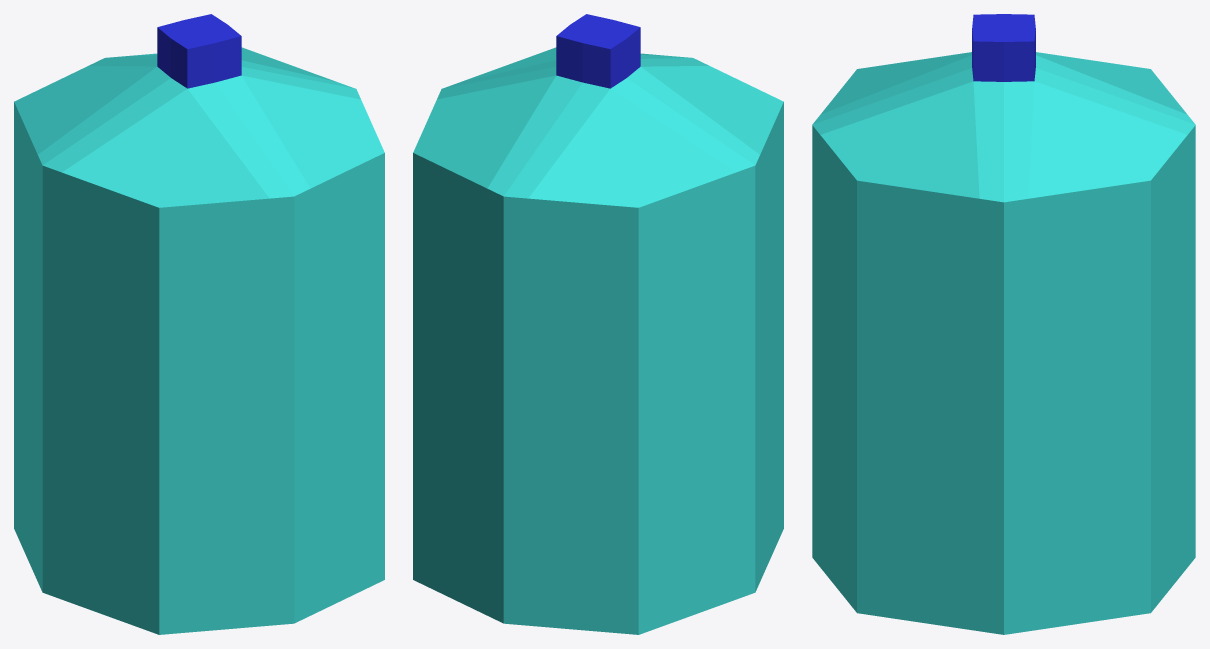
Rendered from Galon.fbx.
3 views of the same model, side by side, from view 1: azimuth 30°, elevation 25°; view 2: azimuth 150°, elevation 25°; view 3: azimuth 270°, elevation 25° (orthographic).
Parts seen in each view (by area): view 1: Cube; view 2: Cube; view 3: Cube.
Boxes of the visible parts, <box> form: Cube: <box>14,14,384,634</box>; Cube: <box>413,14,783,634</box>; Cube: <box>812,14,1195,634</box>.
Size of the model in its own units: 154 by 245 by 161.
